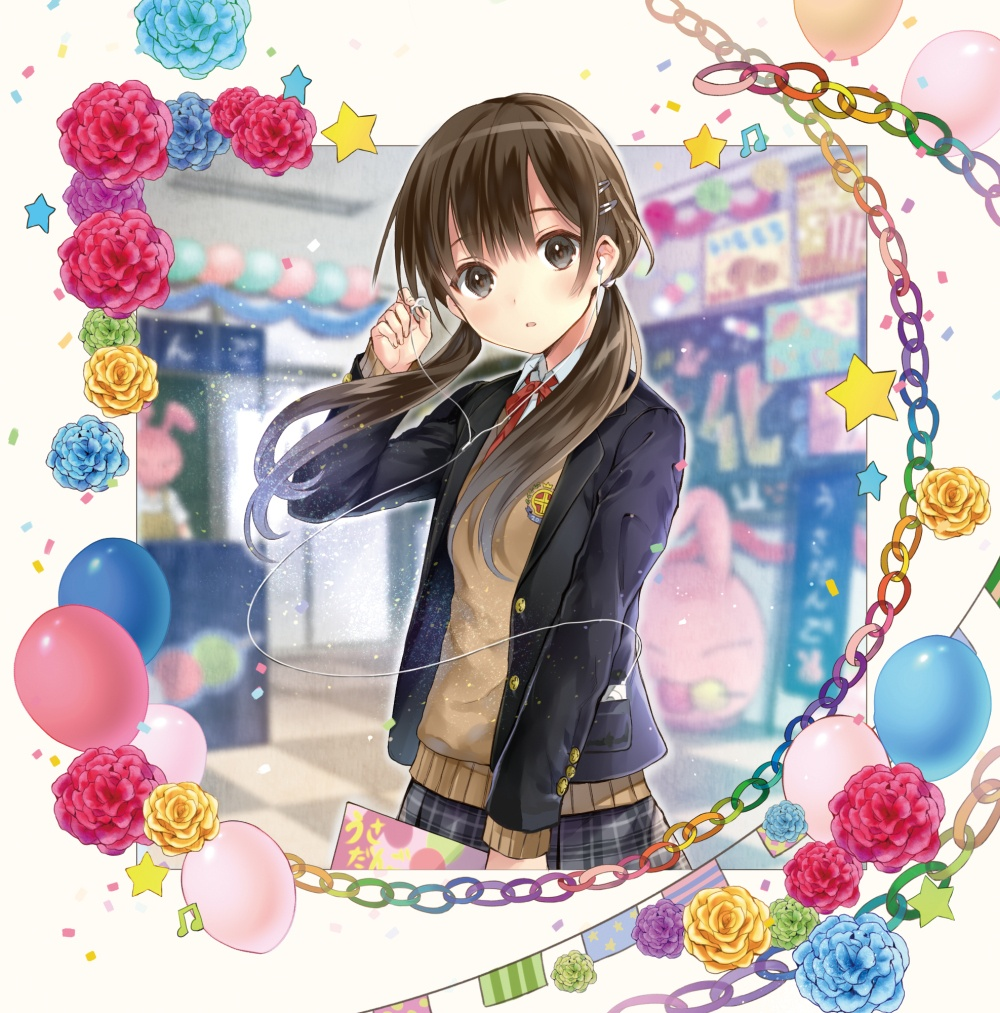纸片人正脸: (379, 92, 651, 357)
